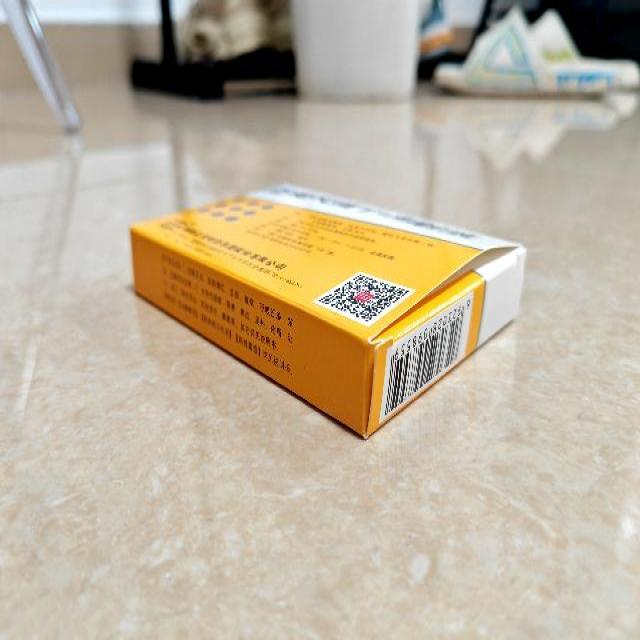box: (128, 181, 526, 440)
